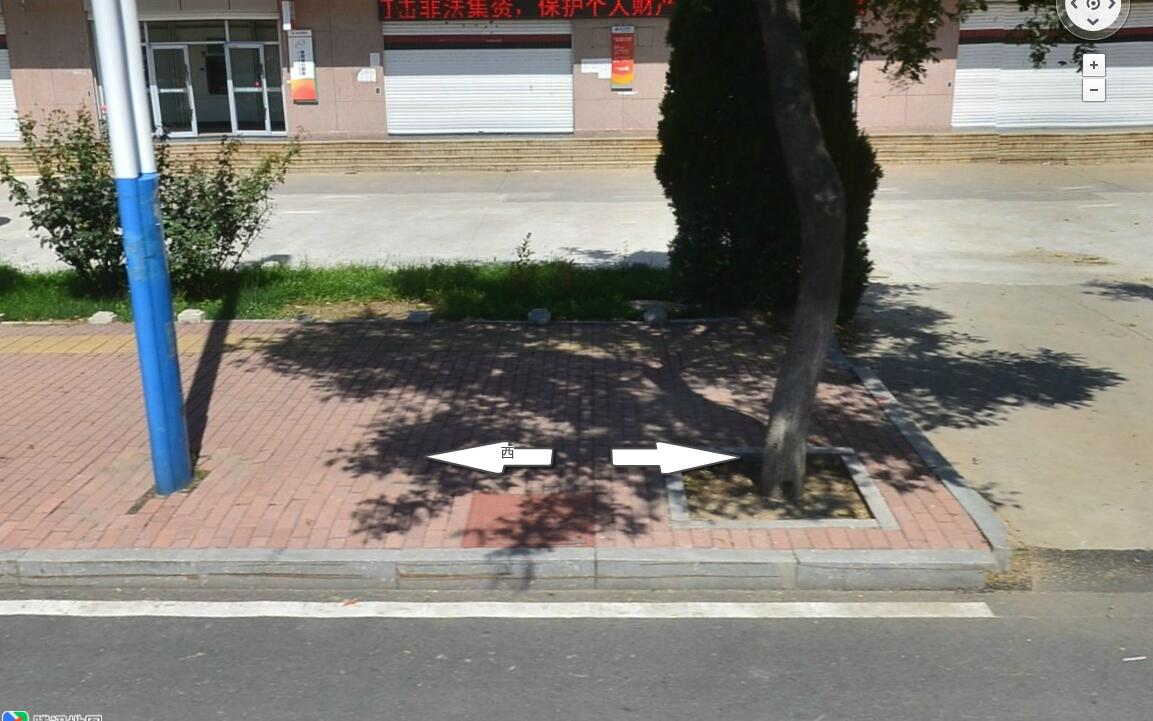side: (184, 549, 400, 595), (590, 549, 798, 595), (396, 549, 599, 592), (796, 549, 996, 592), (16, 549, 188, 592)
